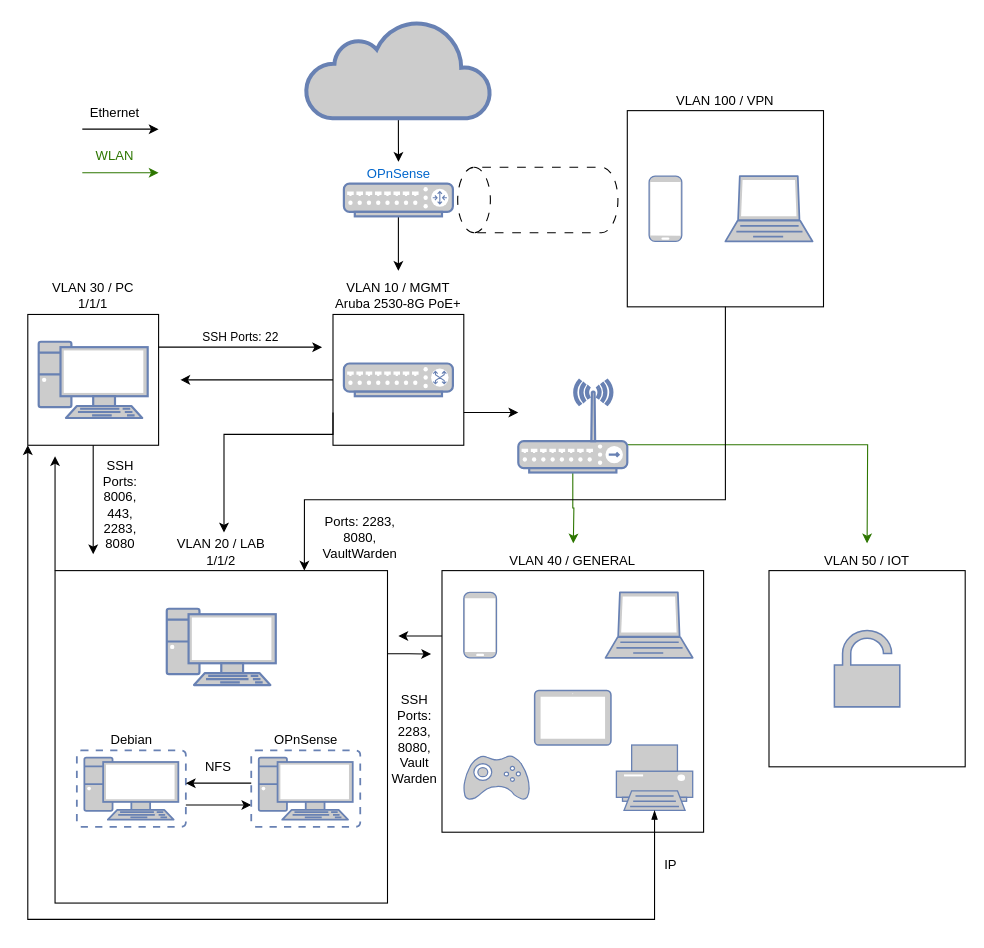
Some shapes in this 984 by 948 pixel diagram are drawn without their labels. The centre of each missing label's shape, as x and y in pixels:
"Aruba IAP-303 1/1/3" belongs at (x=572, y=425).
"Internet" belongs at (x=398, y=69).
"Proxmox" belongs at (x=220, y=646).
"Robot Vacuum" belongs at (x=866, y=668).
